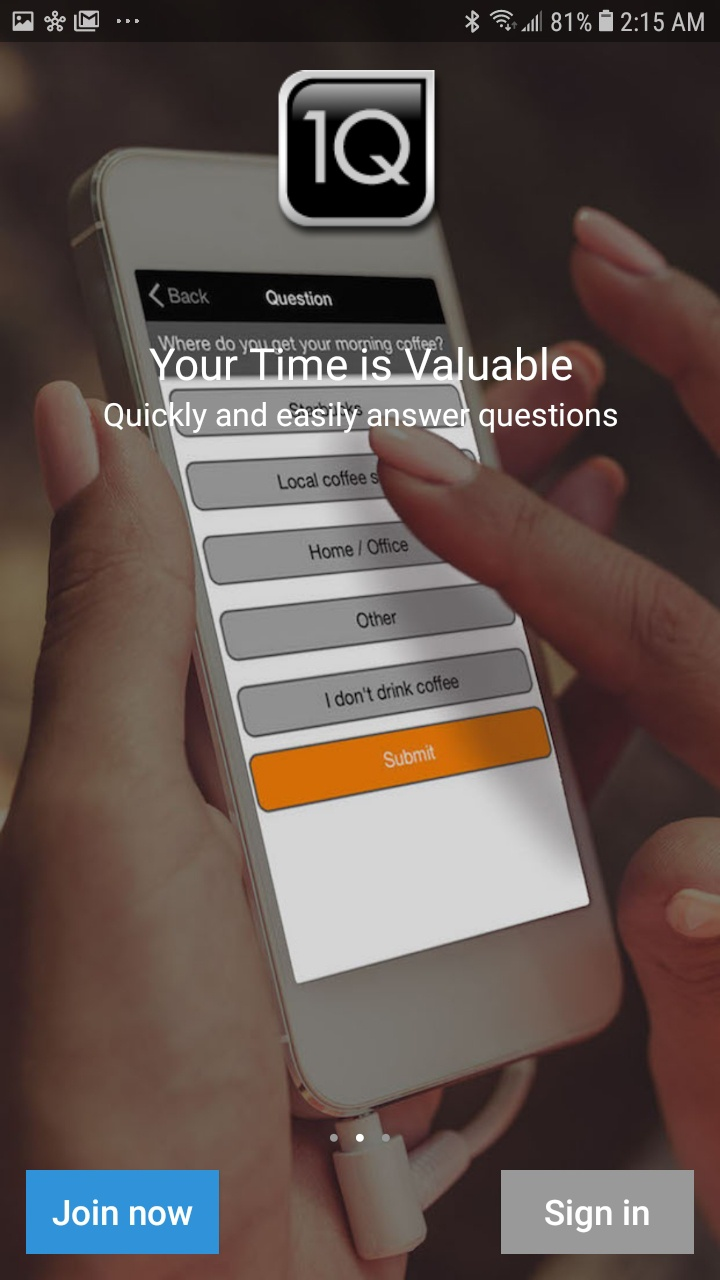BackgroundImage: (1, 43, 720, 1280)
Image: (277, 70, 436, 228)
PageIndicator: (330, 1133, 392, 1143)
Text: (104, 347, 618, 435)
TextButton: (27, 1169, 221, 1255), (501, 1170, 694, 1254)
UpperTaskBar: (1, 1, 720, 43)
